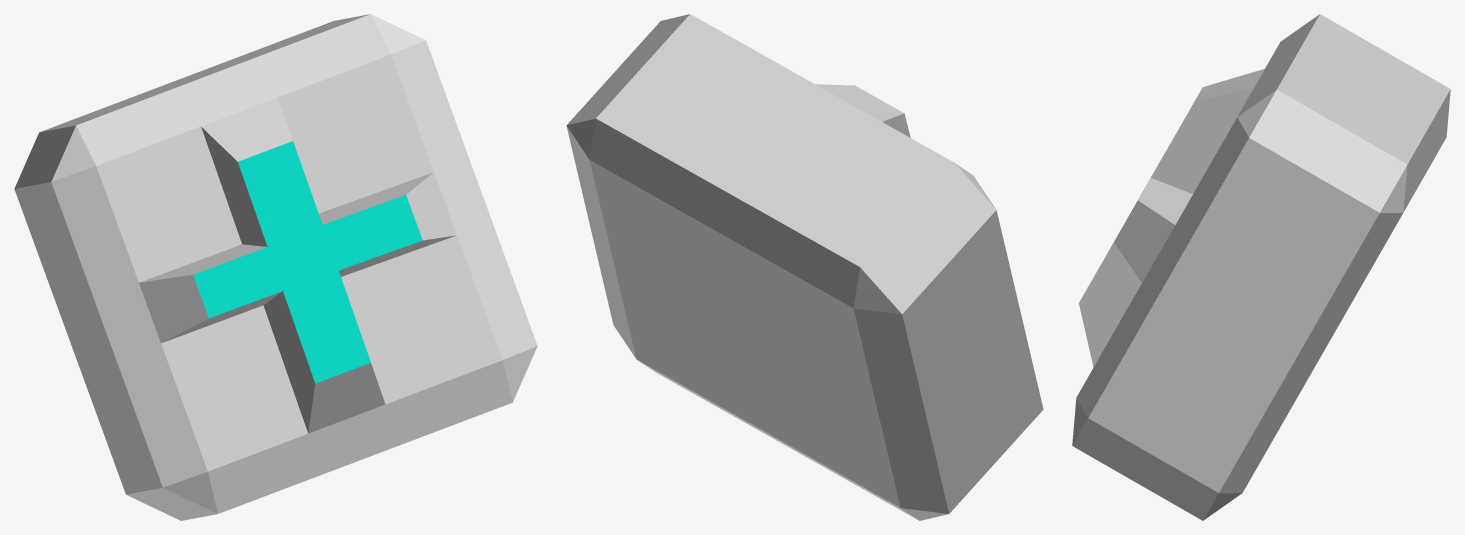
Rendered from item-heal.glb.
3 renders of one model, left to right at view 1: azimuth 30°, elevation 25°; view 2: azimuth 150°, elevation 25°; view 3: azimuth 270°, elevation 25°, orthographic. The views are drawn at different scales.
Parts seen in each view (by area): view 1: Cube; view 2: Cube; view 3: Cube.
Part boxes in pixels (<box>): Cube: <box>14,14,537,520</box>; Cube: <box>566,14,1043,520</box>; Cube: <box>1072,14,1450,520</box>.
Bounding box in the file's own units: 0.2485 × 0.2596 × 0.1942.
